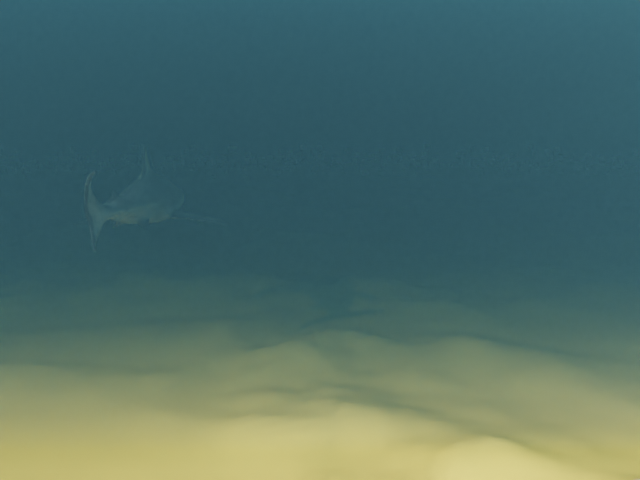Carribean Shark.001: (71, 145, 228, 251)
